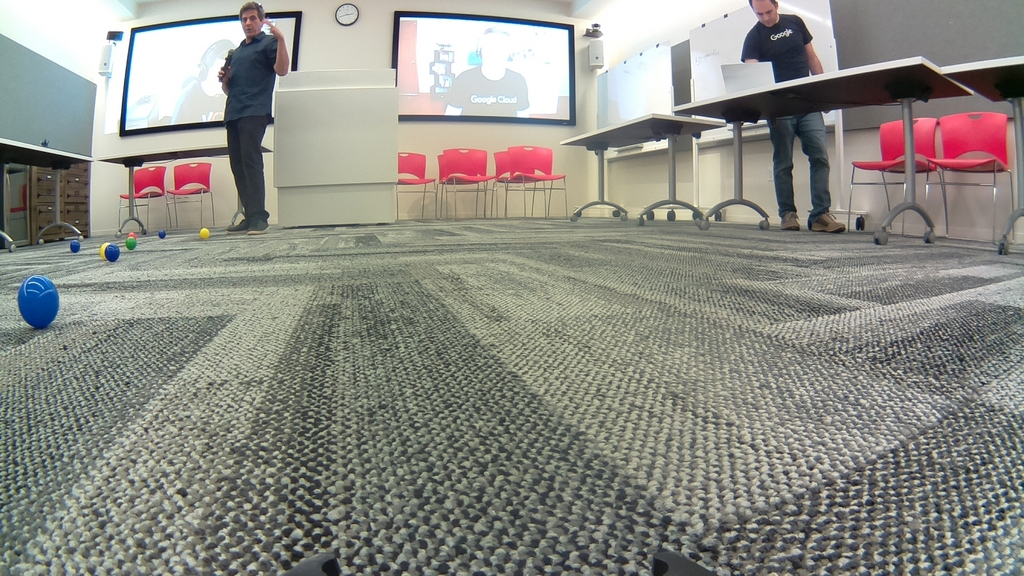ball: (127, 238, 135, 249)
